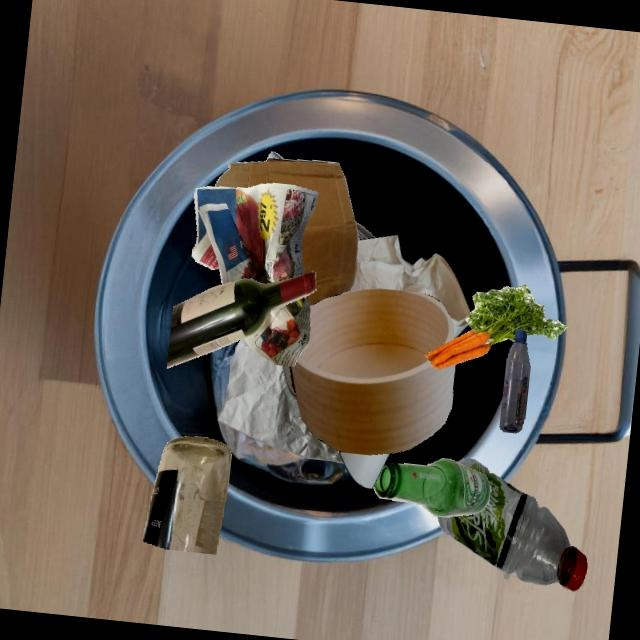biowaste: (423, 284, 568, 369)
cardboard: (214, 158, 357, 306)
combustible waste: (289, 288, 455, 455)
glass: (166, 271, 315, 368), (141, 436, 231, 555), (373, 458, 490, 517), (282, 365, 297, 400)
paper: (217, 338, 344, 464), (192, 183, 318, 284), (349, 234, 470, 339), (243, 296, 309, 366), (355, 221, 375, 240), (266, 151, 283, 159)
plastic: (437, 457, 587, 591), (499, 329, 530, 432)
